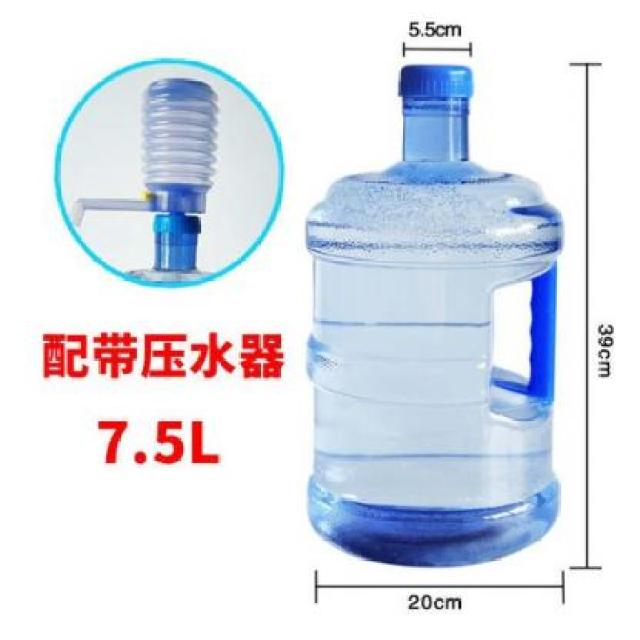coolerbottle: (303, 60, 572, 575)
